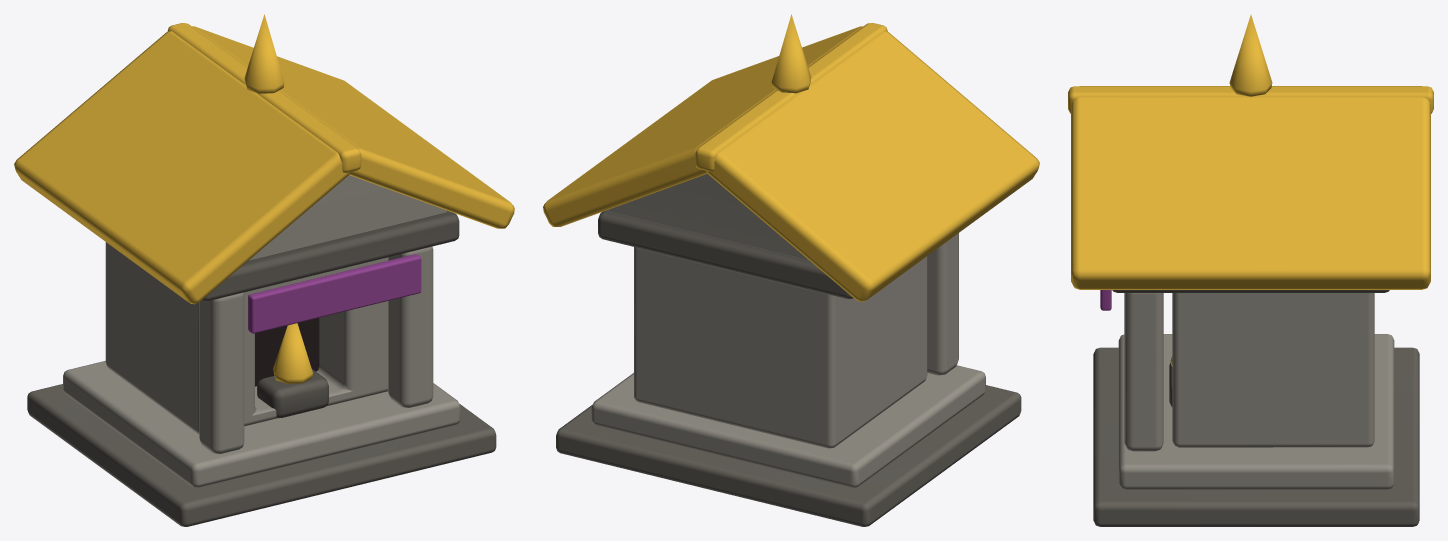
File: Buildings__shrine.glb
3 renders of one model, left to right at view 1: azimuth 30°, elevation 25°; view 2: azimuth 150°, elevation 25°; view 3: azimuth 270°, elevation 25°, orthographic. The views are drawn at different scales.
Parts seen in each view (by area): view 1: shrine_mesh; view 2: shrine_mesh; view 3: shrine_mesh.
Boxes of the visible parts, x1,y1,x2,y2 form: shrine_mesh: [14, 14, 514, 526]; shrine_mesh: [543, 14, 1039, 526]; shrine_mesh: [1068, 15, 1433, 526].
Bounding box in the file's own units: 1.41 × 1.71 × 1.3.
